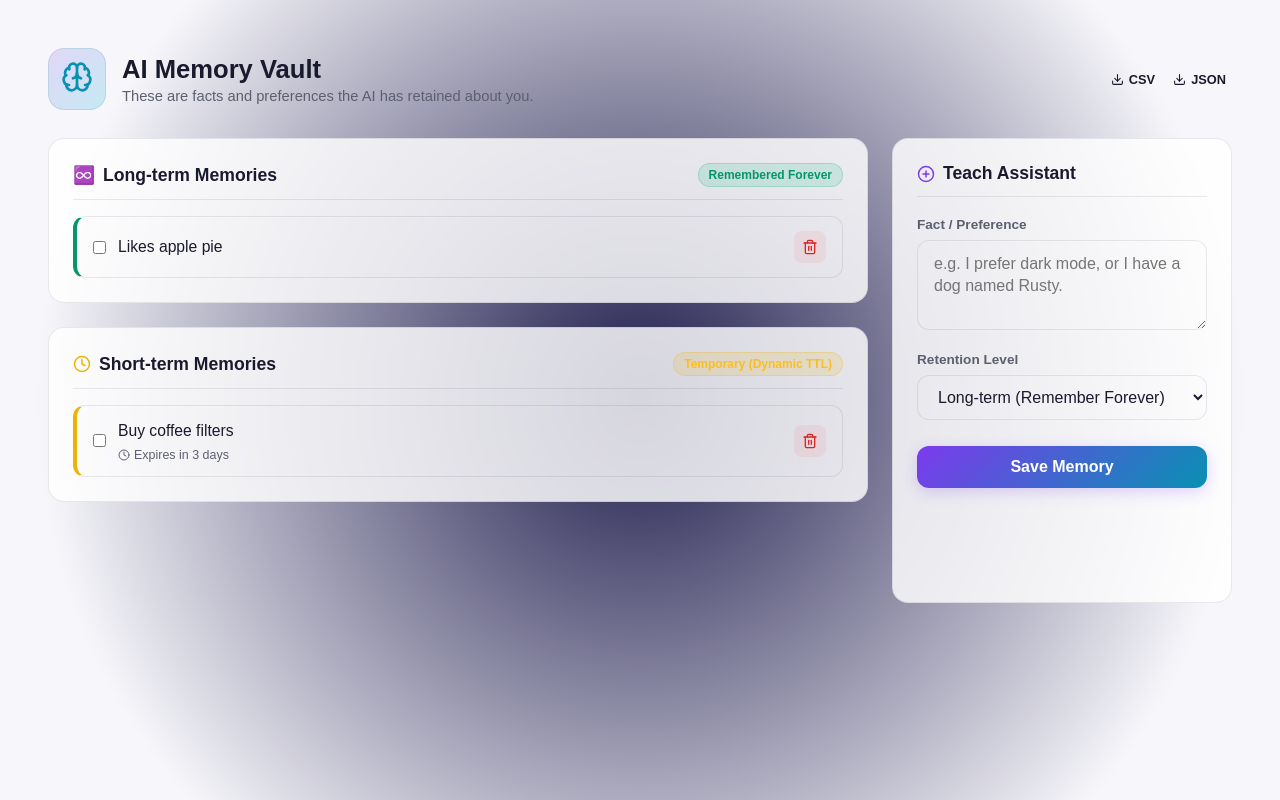
MemoryPane Component Tests › bulk delete › singular vs. plural wording on the delete button
The image size is (1280, 800).
Click the checkbox named "Select memory: Likes apple pie" at (100, 247), box [93,240,106,254]
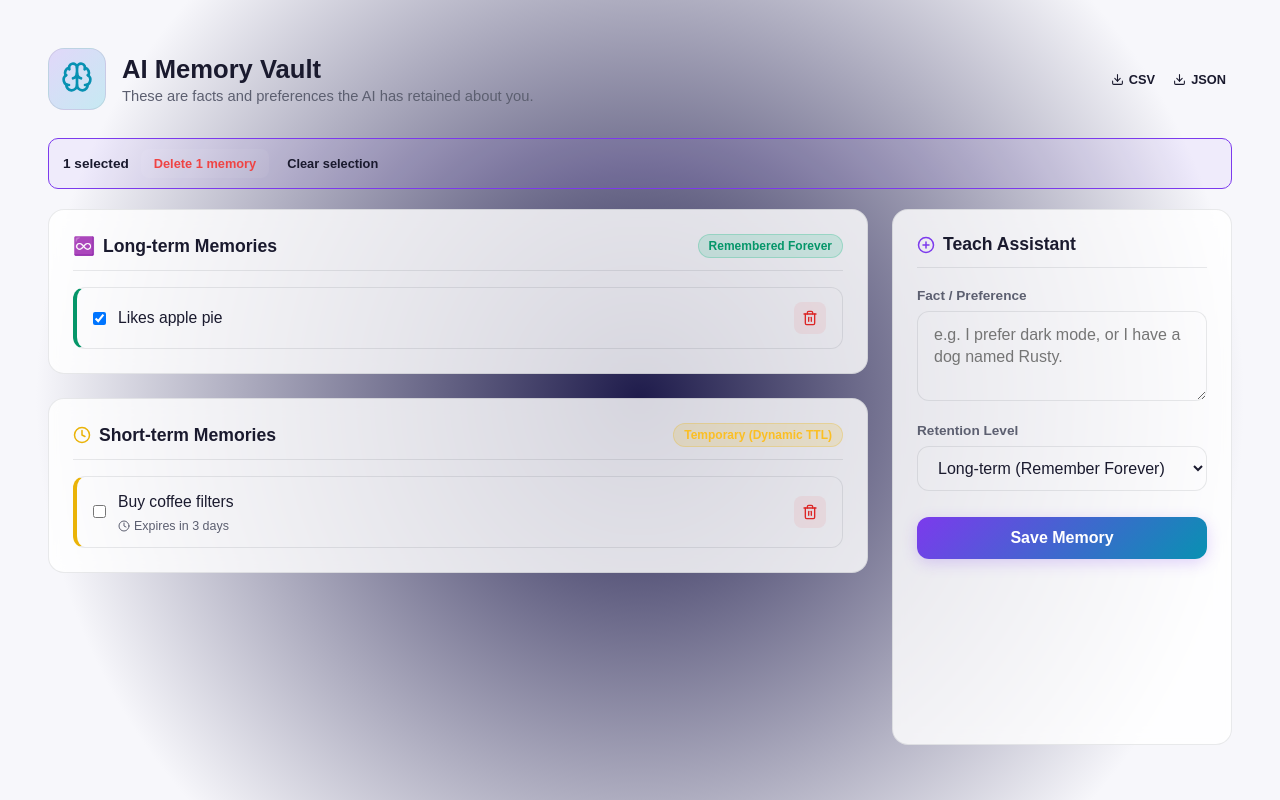
Now the button "Delete 1 memory" is shown, box [141,149,269,178]
